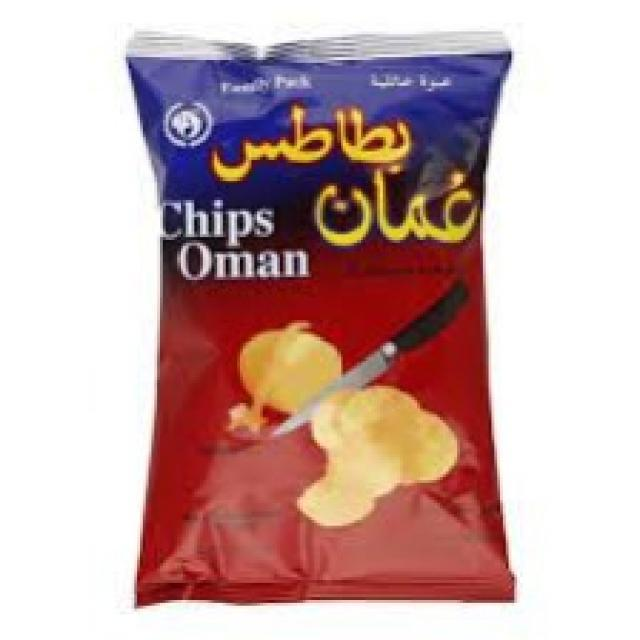plastic: (122, 23, 519, 602)
